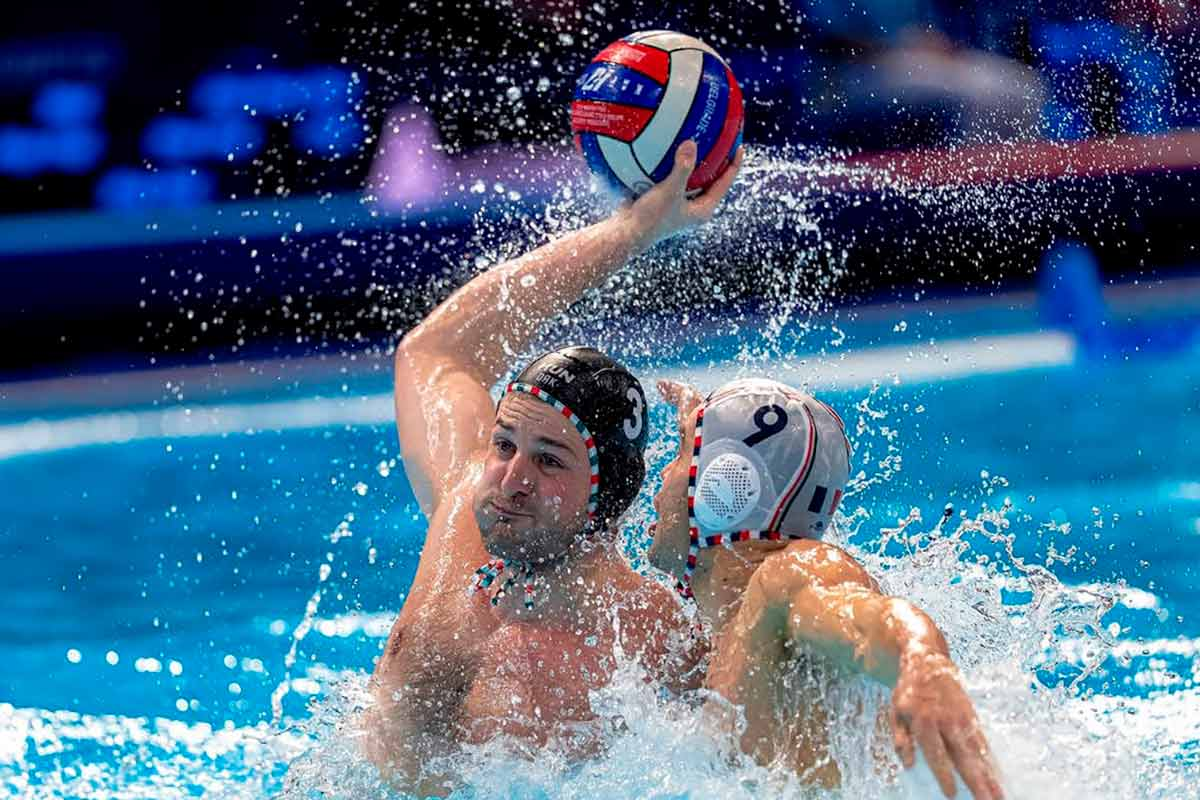ball: (570, 29, 745, 204)
player: (360, 138, 748, 799), (648, 375, 1004, 798)
